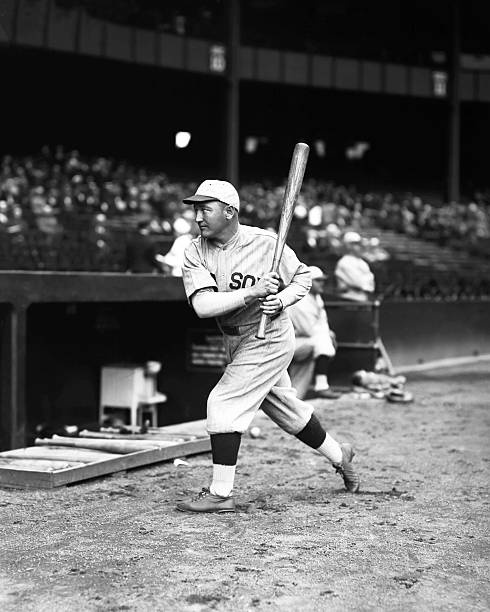bita: (247, 144, 318, 345)
